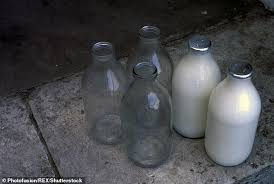milk: (178, 36, 265, 171)
